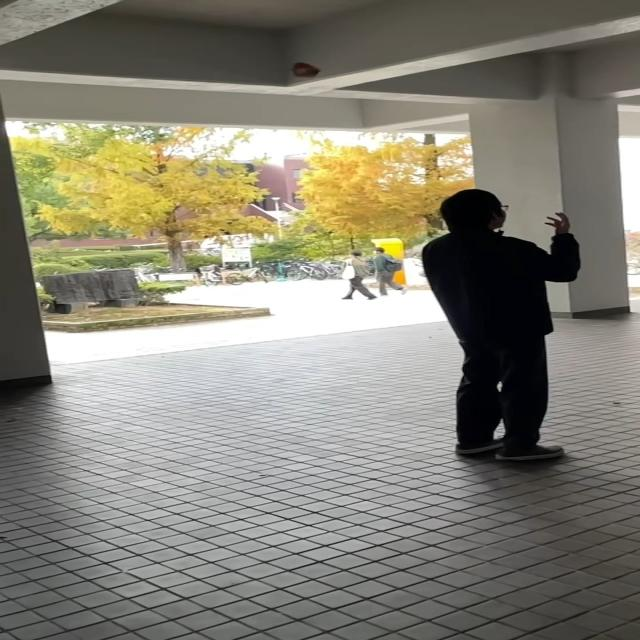paper: (290, 61, 320, 82)
